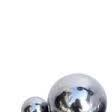ironball: (43, 72, 111, 111)
